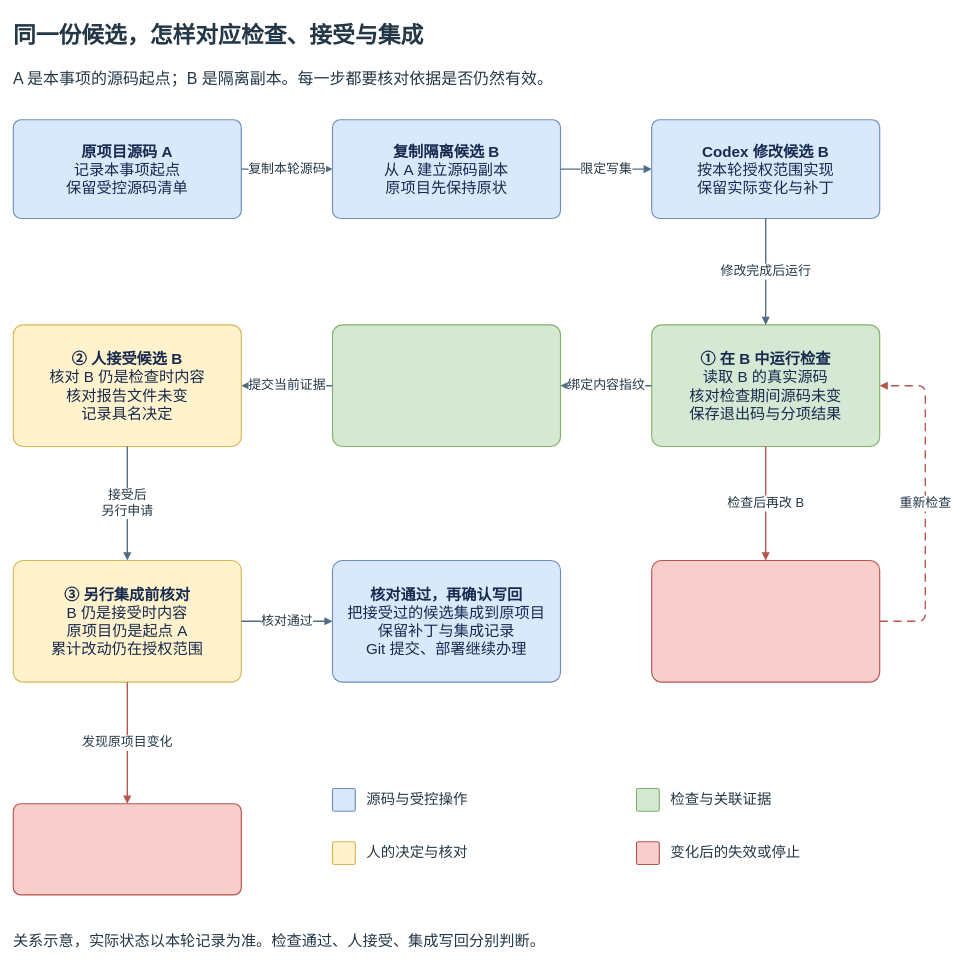
Image size: 964x968. Some labels were removed from this diagram. The box of each missing label's shape, as (x1, y1, x2, y2) in pixels:
原项目 A 已变化 停止集成，保留候选 人工核对起点与冲突: (12, 803, 242, 895)
报告关联 B 的内容指纹 保存报告文件哈希 指向本次检查的候选 通过结果进入人审: (332, 324, 561, 447)
检查后 B 又改动 旧报告失效，不能据此接受 保留旧结果，重新检查: (651, 560, 880, 682)
